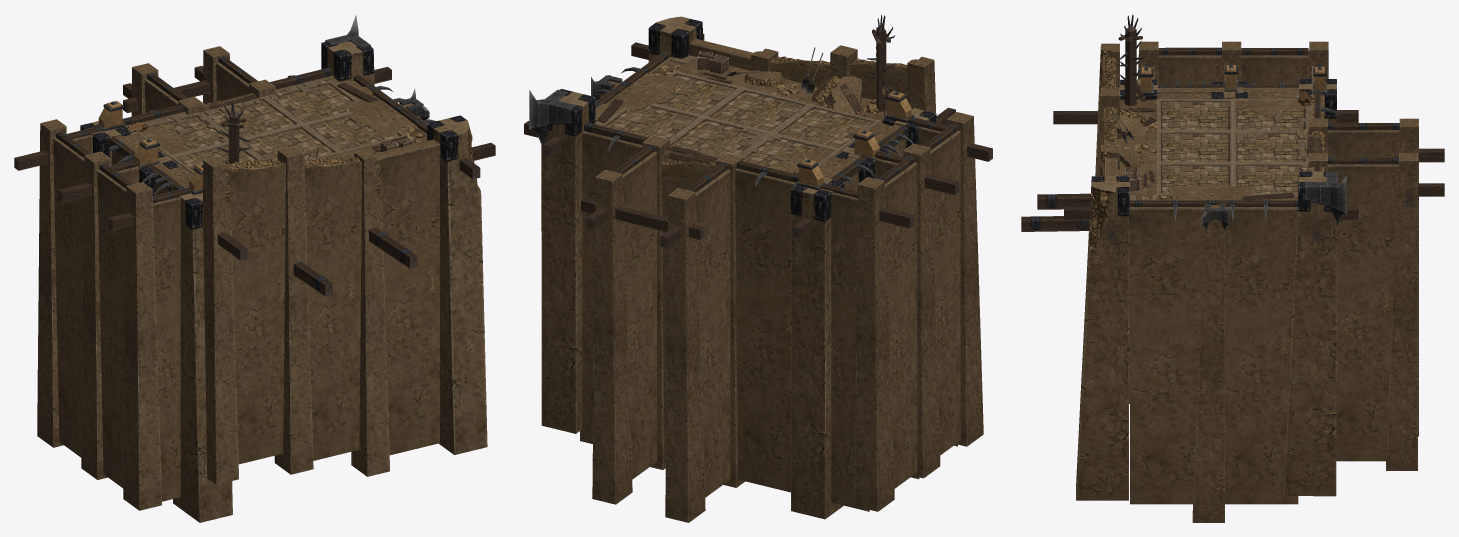
The model's file is Cell1U_D.fbx.
3 renders of one model, left to right at view 1: azimuth 30°, elevation 25°; view 2: azimuth 150°, elevation 25°; view 3: azimuth 270°, elevation 25°, orthographic. The views are drawn at different scales.
Visible parts, largest first — view 1: Cell1U_D; view 2: Cell1U_D; view 3: Cell1U_D.
Part boxes in pixels (bbox=[...]): Cell1U_D: bbox=[14, 14, 495, 522]; Cell1U_D: bbox=[524, 14, 992, 522]; Cell1U_D: bbox=[1021, 14, 1444, 522].
Size of the model in its own units: 33.8 by 34.89 by 33.59.
